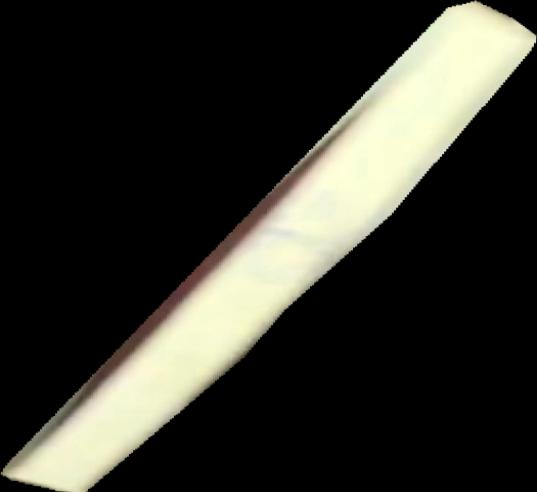backward: (1, 1, 537, 492)
